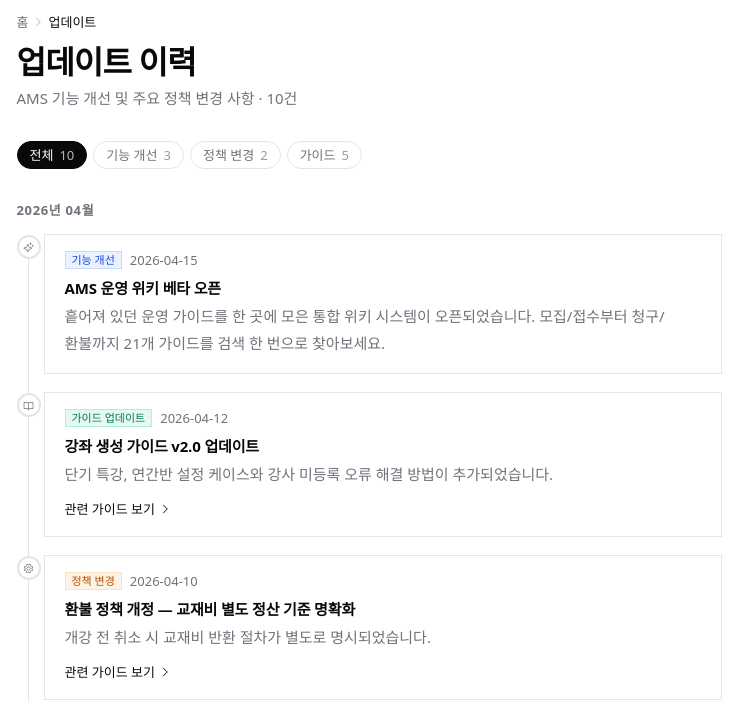
Test: UpdatesPage › "정책 변경" 필터 클릭 시 policy 타입만 노출
Click the button "정책 변경 2": (235, 155) [190, 141, 281, 169]
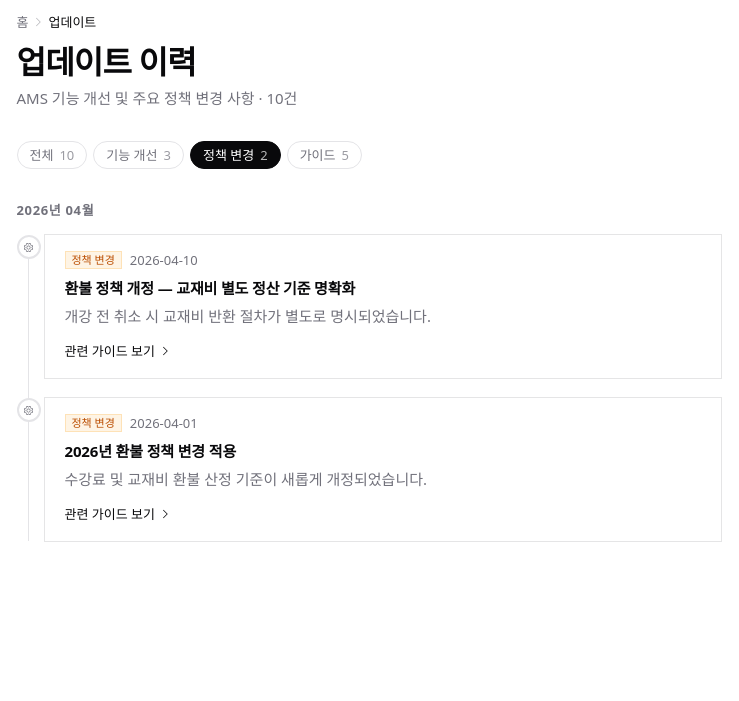
Now the heading "환불 정책 개정 — 교재비 별도 정산 기준 명확화" is shown, box [64, 278, 355, 298]
Now the heading "AMS 운영 위키 베타 오픈" is gone
